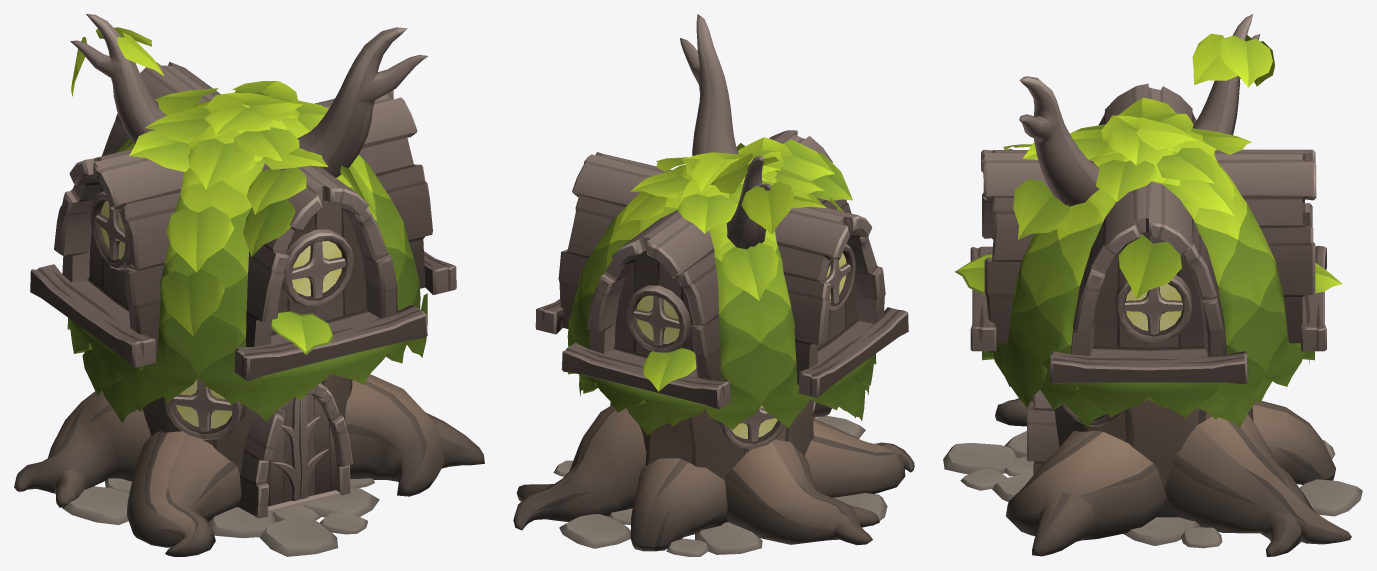
Rendered from house.glb.
The picture shows the model from 3 angles, left to right: view 1: azimuth 30°, elevation 25°; view 2: azimuth 150°, elevation 25°; view 3: azimuth 270°, elevation 25°; orthographic projection. The views are drawn at different scales.
Visible parts, largest first — view 1: elf_house_Lv2; view 2: elf_house_Lv2; view 3: elf_house_Lv2.
Boxes of the visible parts, x1,y1,x2,y2 form: elf_house_Lv2: [14, 14, 484, 556]; elf_house_Lv2: [513, 14, 914, 556]; elf_house_Lv2: [943, 14, 1362, 556].
Size of the model in its own units: 7.34 by 8.71 by 7.38.
1 material, 1 textured.
